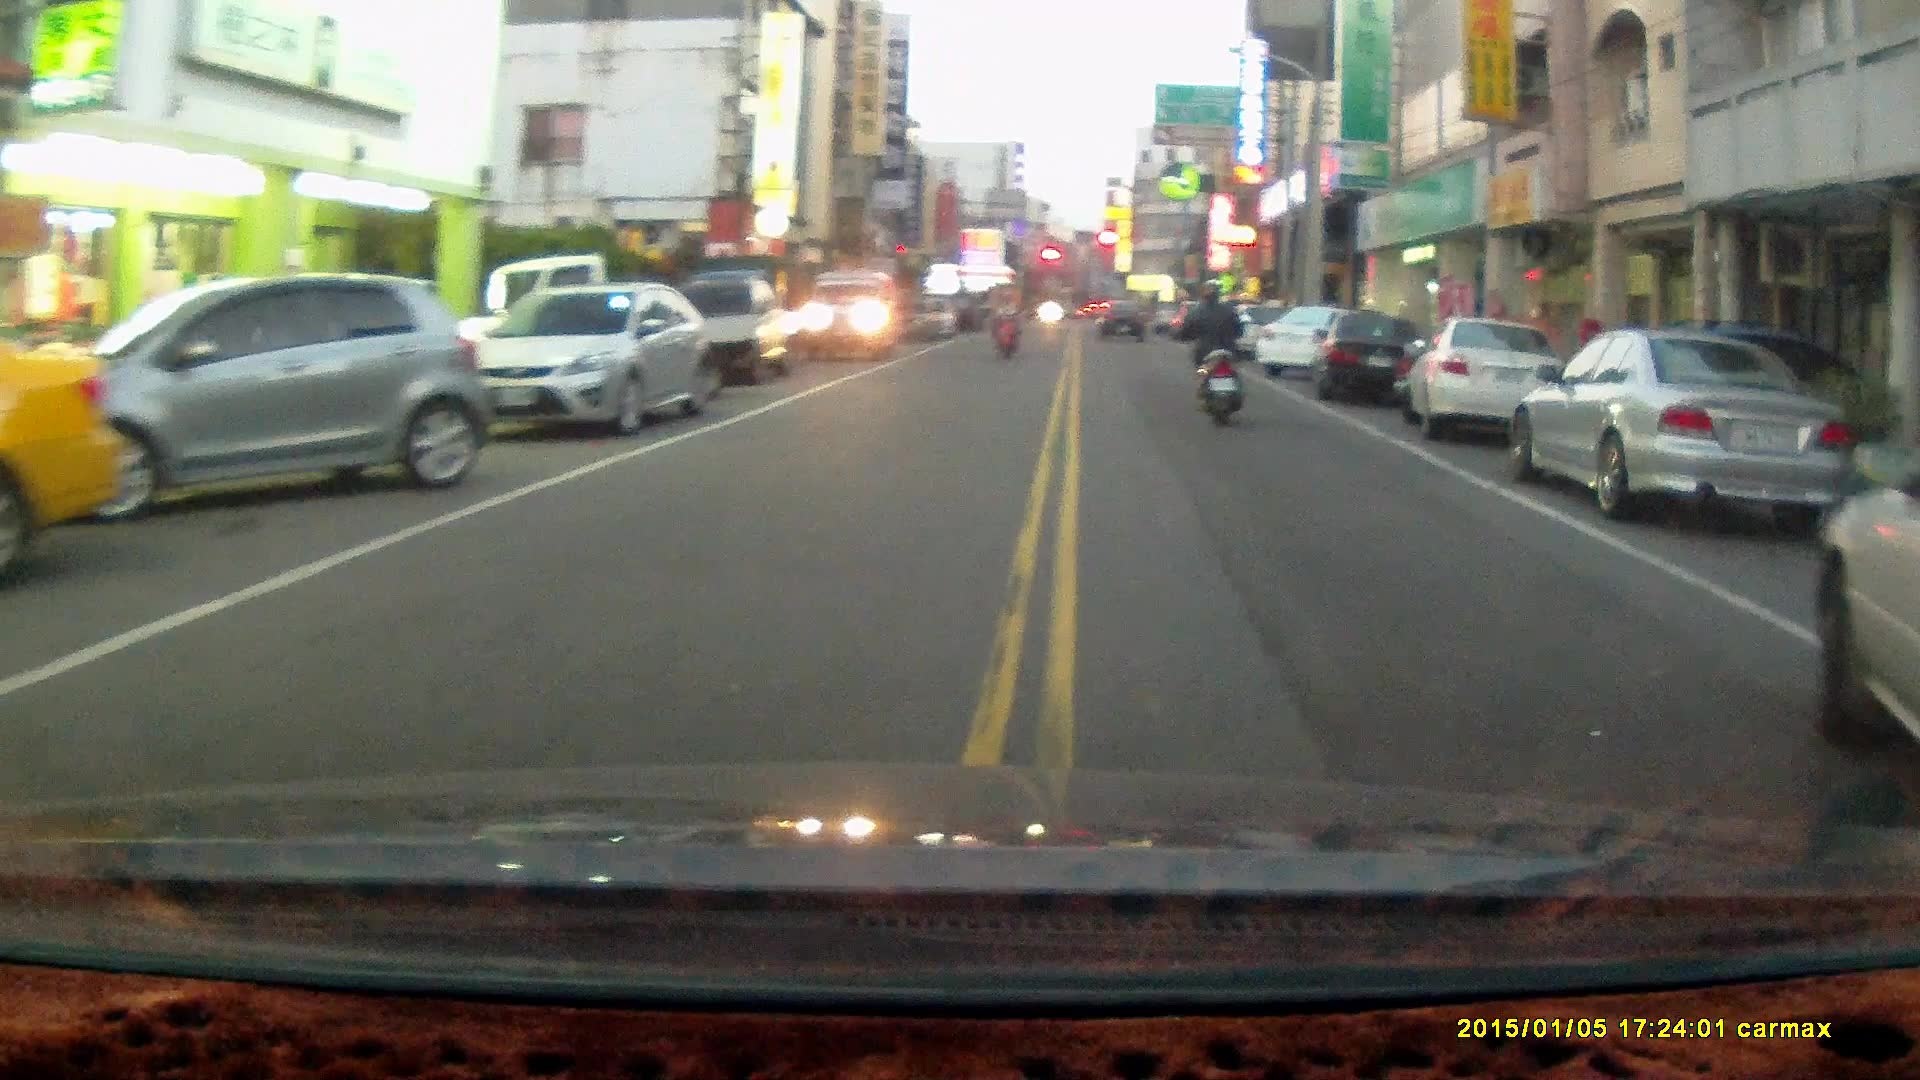rider: (1176, 282, 1248, 429), (987, 284, 1018, 362)
vehicle: (53, 275, 485, 524), (1514, 324, 1853, 527), (469, 282, 720, 442), (1813, 445, 1919, 820), (1, 293, 126, 594), (1408, 318, 1565, 441), (663, 272, 809, 389), (1315, 306, 1430, 411), (805, 268, 906, 363)
